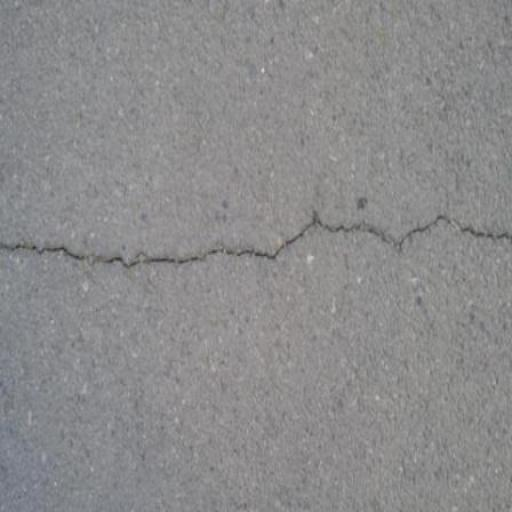spalling: (3, 198, 504, 278)
